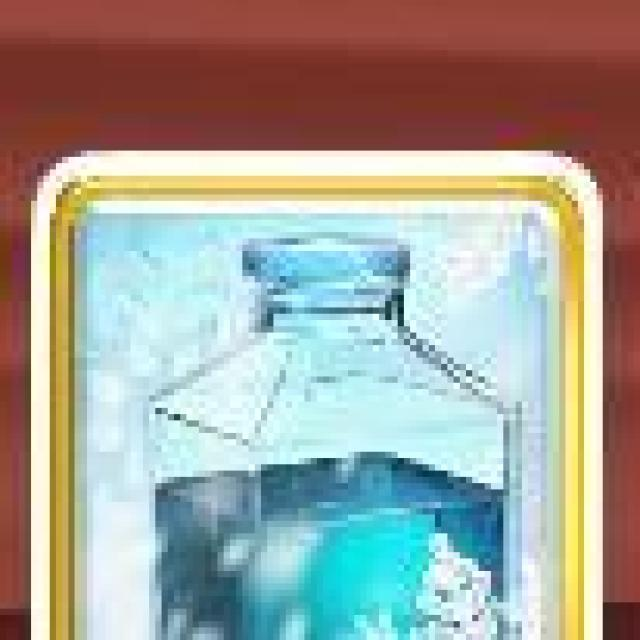Freeze: (35, 151, 608, 640)
